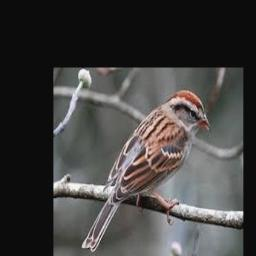Sparrow: (82, 90, 211, 253)
